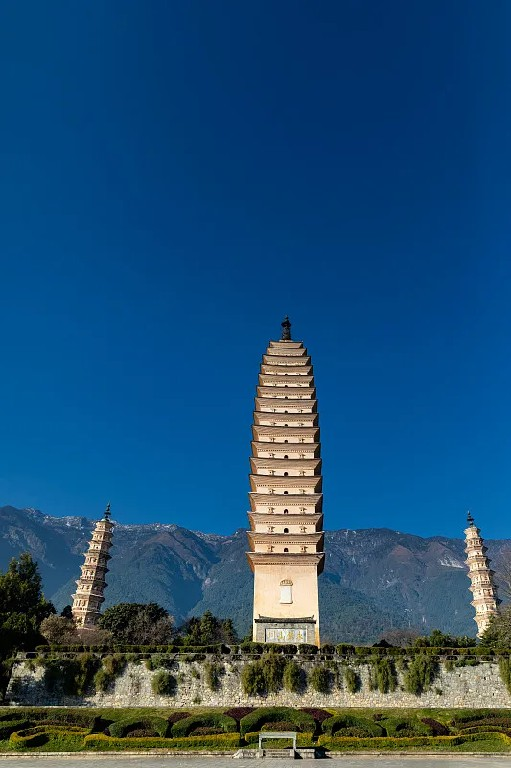ThreePagoda: (244, 316, 326, 644)
